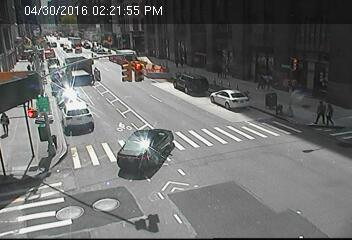neg: (23, 144, 51, 183), (190, 79, 218, 117), (84, 90, 111, 127), (52, 78, 79, 115), (233, 163, 260, 199), (276, 149, 302, 183), (121, 56, 142, 84), (252, 93, 272, 120), (147, 137, 167, 164), (88, 187, 108, 213), (167, 64, 184, 87), (63, 30, 80, 53), (59, 132, 75, 154)
pos: (1, 108, 24, 139), (307, 99, 325, 123), (327, 105, 341, 124)
